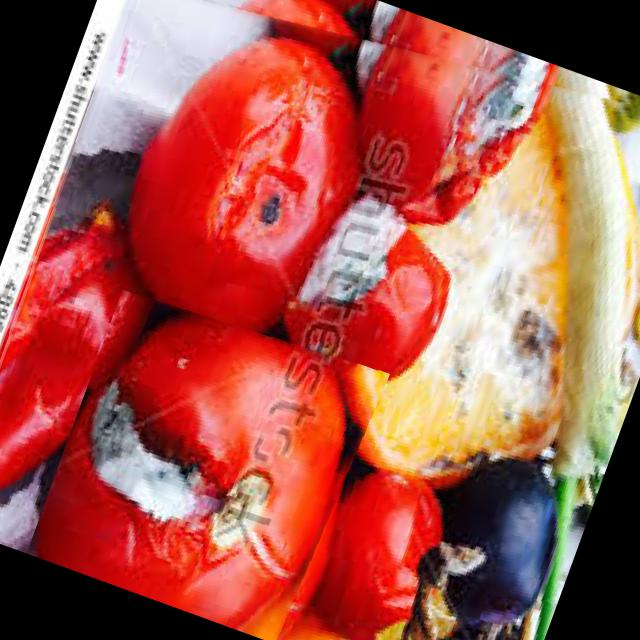Organic: (0, 0, 640, 640), (25, 278, 388, 640)
